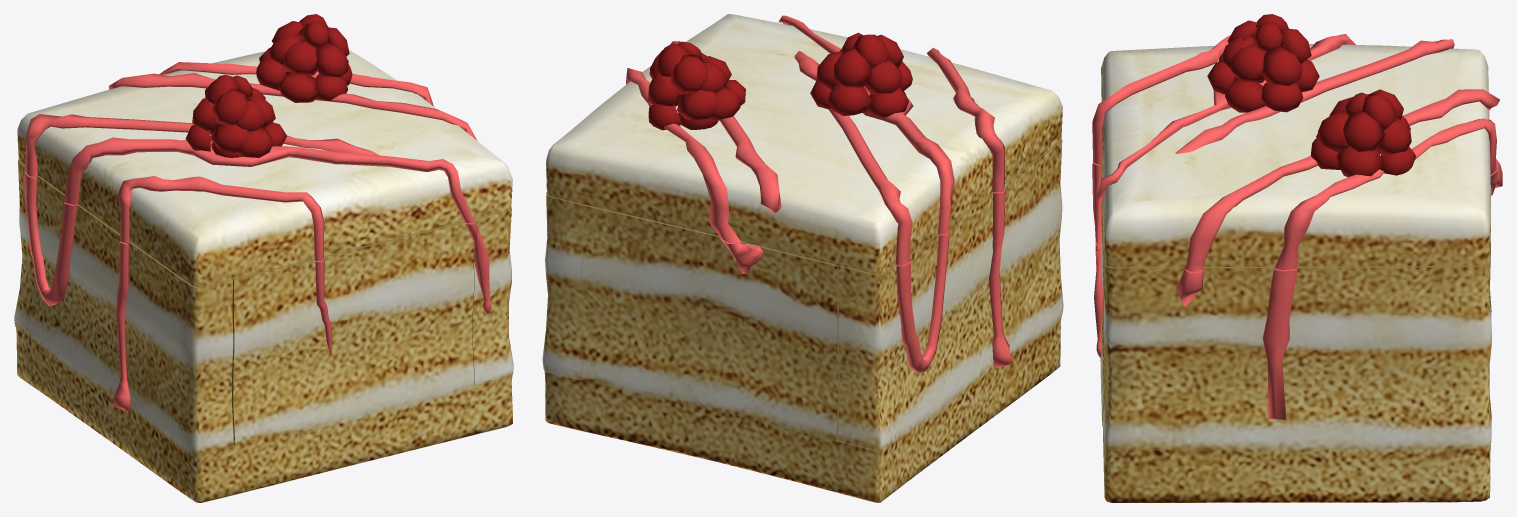
File: cake05.FBX
The picture shows the model from 3 angles, left to right: view 1: azimuth 30°, elevation 25°; view 2: azimuth 150°, elevation 25°; view 3: azimuth 270°, elevation 25°; orthographic projection. The views are drawn at different scales.
Parts seen in each view (by area): view 1: 41_00, 41_03, 41_04, 41_05, 41_01; view 2: 41_00, 41_02, 41_04, 41_05, 41_01; view 3: 41_00, 41_01, 41_05, 41_03.
Boxes of the visible parts, left/top/right/bottom form: 41_00: left=17, top=14, right=512, bottom=286; 41_03: left=232, top=221, right=477, bottom=445; 41_04: left=14, top=160, right=233, bottom=453; 41_05: left=16, top=327, right=512, bottom=502; 41_01: left=472, top=208, right=513, bottom=385; 41_00: left=546, top=14, right=1062, bottom=274; 41_02: left=582, top=204, right=839, bottom=440; 41_04: left=838, top=139, right=1063, bottom=450; 41_05: left=544, top=316, right=1061, bottom=502; 41_01: left=542, top=192, right=583, bottom=379; 41_00: left=1092, top=14, right=1499, bottom=271; 41_01: left=1094, top=247, right=1491, bottom=449; 41_05: left=1103, top=427, right=1490, bottom=502; 41_03: left=1092, top=156, right=1106, bottom=426.
Size of the model in its own units: 412 by 391 by 385.
